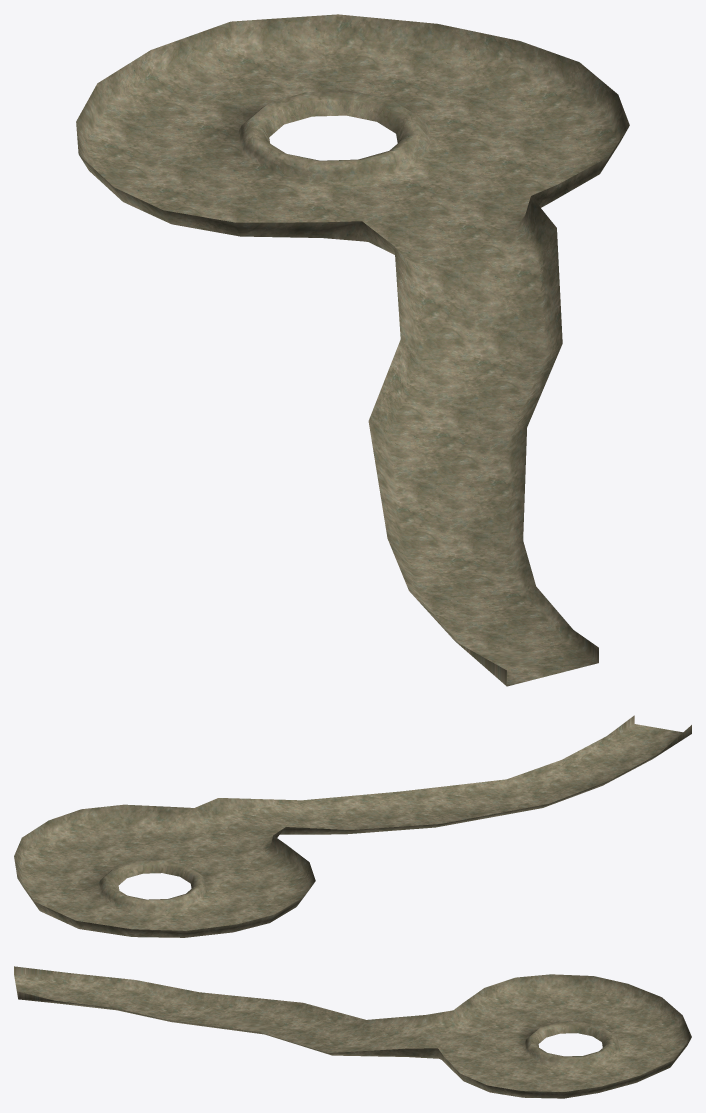
File: EKH_GROTTO_PS_GR_CAVE_FLOOR_987.fbx
The picture shows the model from 3 angles, top to bottom: view 1: azimuth 30°, elevation 25°; view 2: azimuth 150°, elevation 25°; view 3: azimuth 270°, elevation 25°; orthographic projection. The views are drawn at different scales.
Parts seen in each view (by area): view 1: EKH_GROTTO_PS_GR_CAVE_FLOOR_987; view 2: EKH_GROTTO_PS_GR_CAVE_FLOOR_987; view 3: EKH_GROTTO_PS_GR_CAVE_FLOOR_987.
Part boxes in pixels (x1,y1,x2,y2): EKH_GROTTO_PS_GR_CAVE_FLOOR_987: (76,14,629,686); EKH_GROTTO_PS_GR_CAVE_FLOOR_987: (14,715,691,937); EKH_GROTTO_PS_GR_CAVE_FLOOR_987: (14,966,691,1098).
Size of the model in its own units: 130199 by 18315 by 245156.
1 material, 1 textured.
